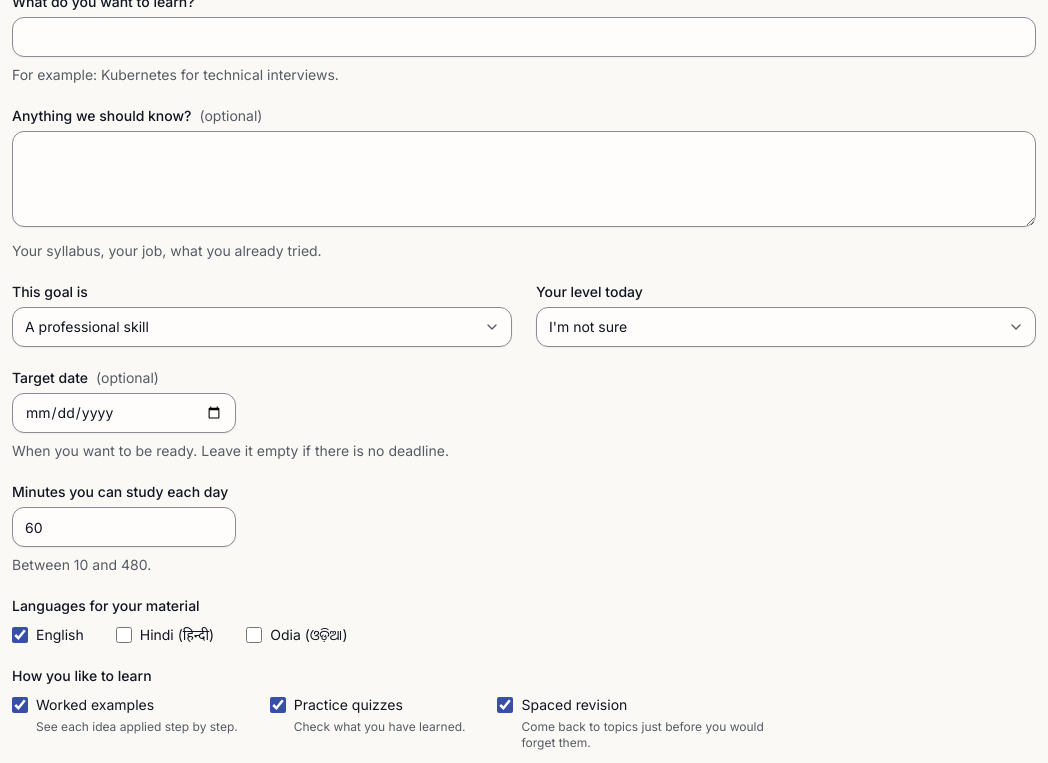
Test case: GoalForm › shows a form-level failure, such as the goal limit
In the field labelled "What do you want to learn?": [524, 37] box [12, 17, 1036, 57], type "One more"
(page scrolled)
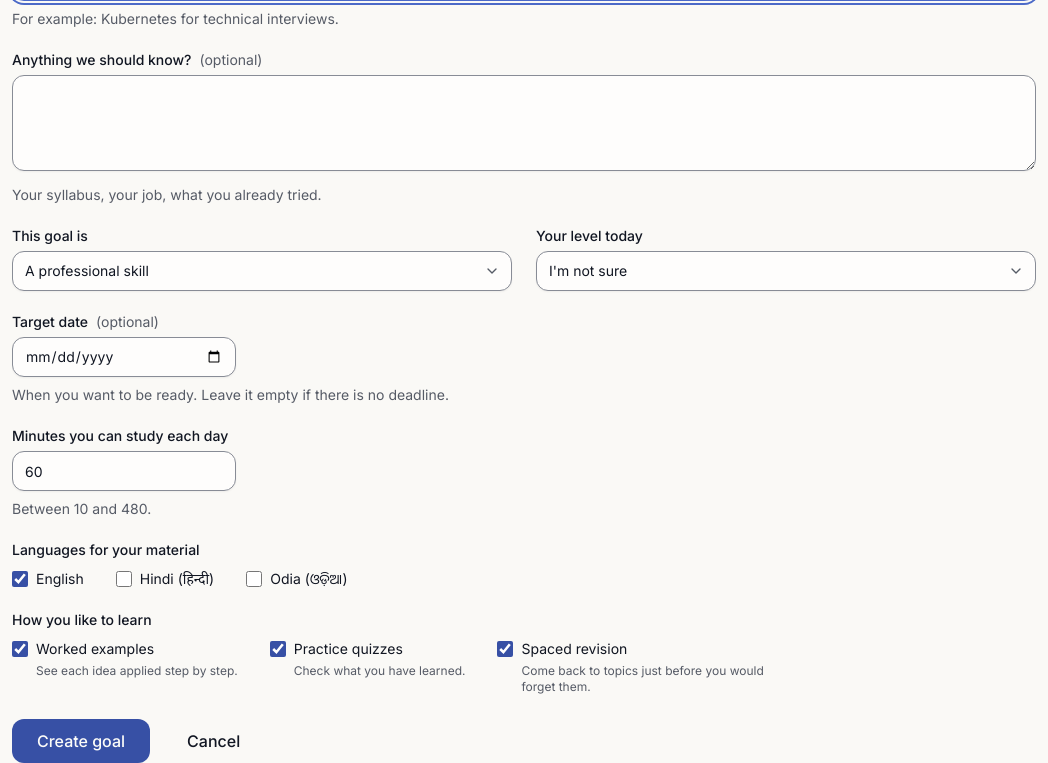
Click the button "Create goal": [81, 741] box [12, 719, 150, 762]
(page scrolled)
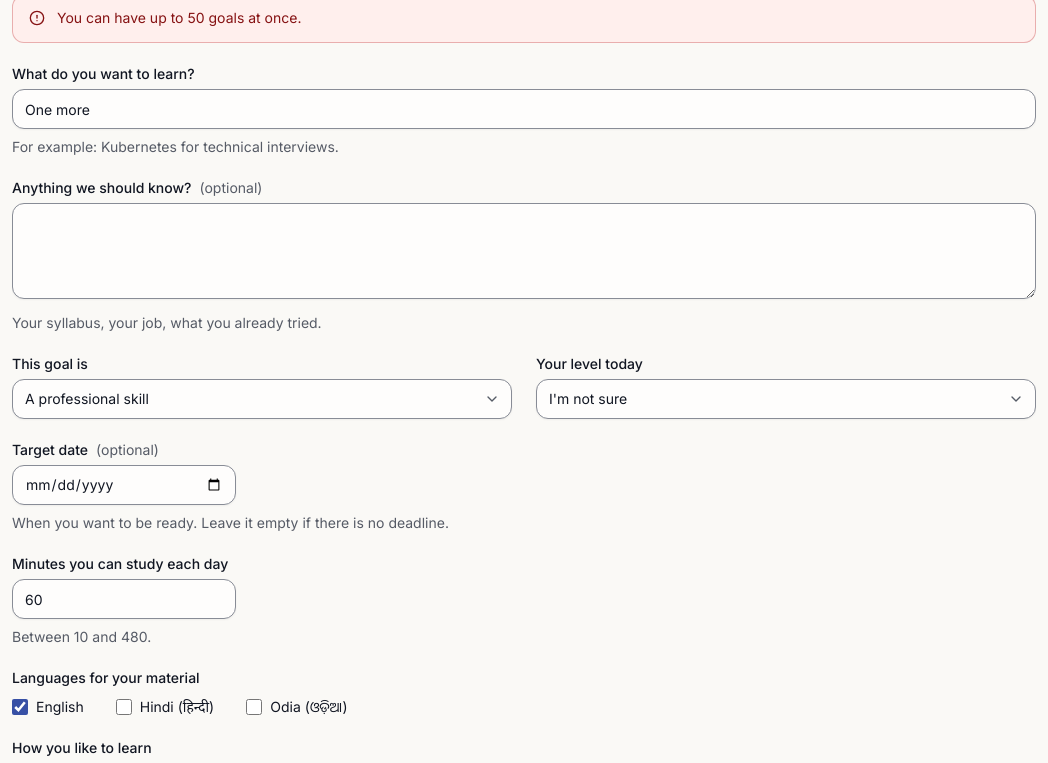
Result: the text "You can have up to 50 goals at once." is shown at [57, 9, 302, 26]
